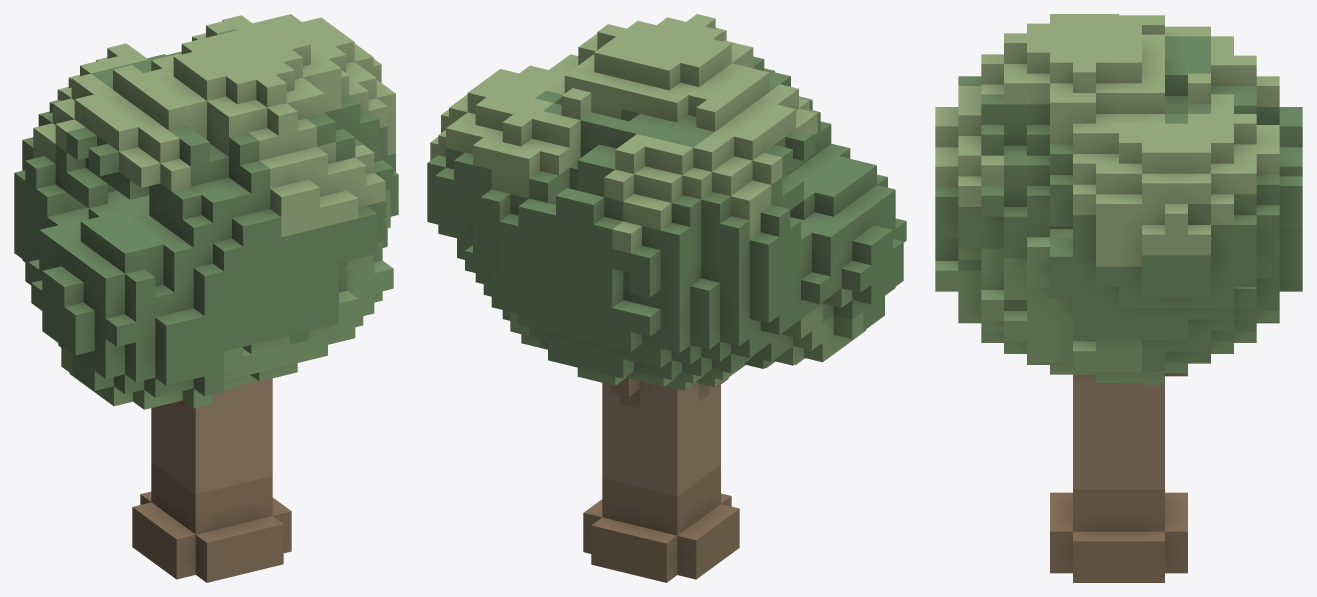
Rendered from grand_arbre_0.glb.
The picture shows the model from 3 angles, left to right: view 1: azimuth 30°, elevation 25°; view 2: azimuth 150°, elevation 25°; view 3: azimuth 270°, elevation 25°; orthographic projection. The views are drawn at different scales.
Visible parts, largest first — view 1: geometry_0; view 2: geometry_0; view 3: geometry_0.
Part boxes in pixels (x1,y1,x2,y2): geometry_0: [14, 14, 398, 582]; geometry_0: [427, 14, 906, 582]; geometry_0: [935, 14, 1302, 582].
Bounding box in the file's own units: 5 × 6.25 × 4.
